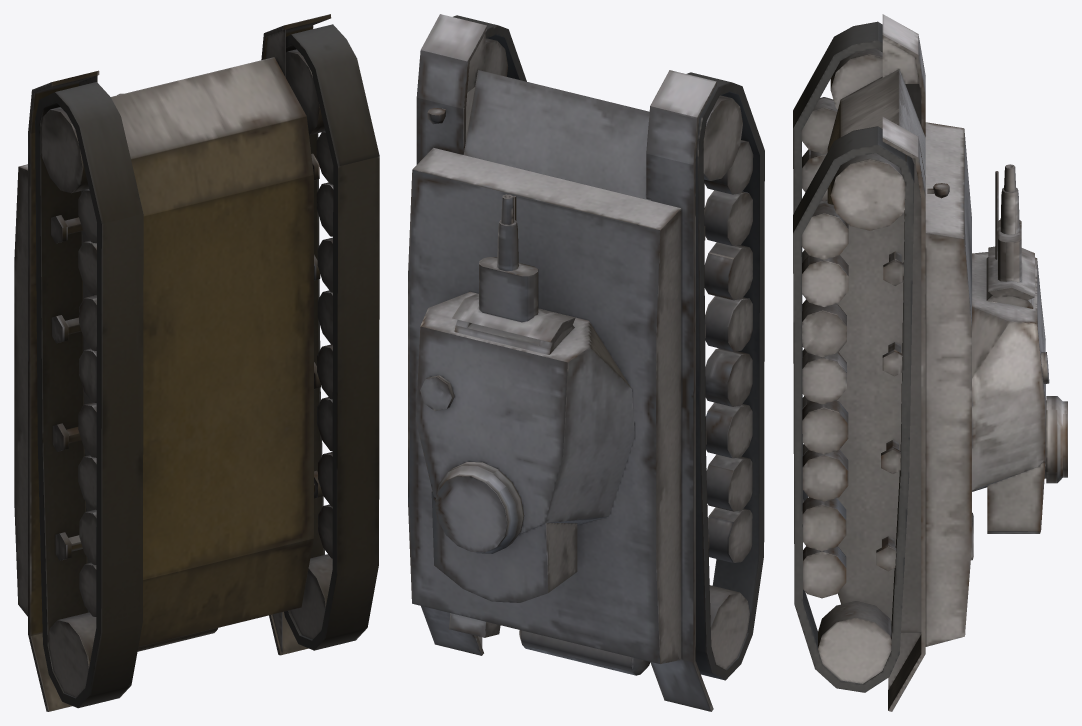
3 views of the same model, side by side, from view 1: azimuth 30°, elevation 25°; view 2: azimuth 150°, elevation 25°; view 3: azimuth 270°, elevation 25° (orthographic). The views are drawn at different scales.
Parts seen in each view (by area): view 1: Pz.IV_F1 Body; view 2: Pz.IV_F1 Body, Pz.IV_F1 Turret; view 3: Pz.IV_F1 Body, Pz.IV_F1 Turret.
Part boxes in pixels (x1,y1,x2,y2): Pz.IV_F1 Body: (14,14,379,711); Pz.IV_F1 Body: (408,14,764,711); Pz.IV_F1 Turret: (415,194,634,602); Pz.IV_F1 Body: (793,14,973,711); Pz.IV_F1 Turret: (972,164,1067,533).
Bounding box in the file's own units: 111 × 240 × 104.
